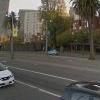Car: (43, 72, 100, 100)
